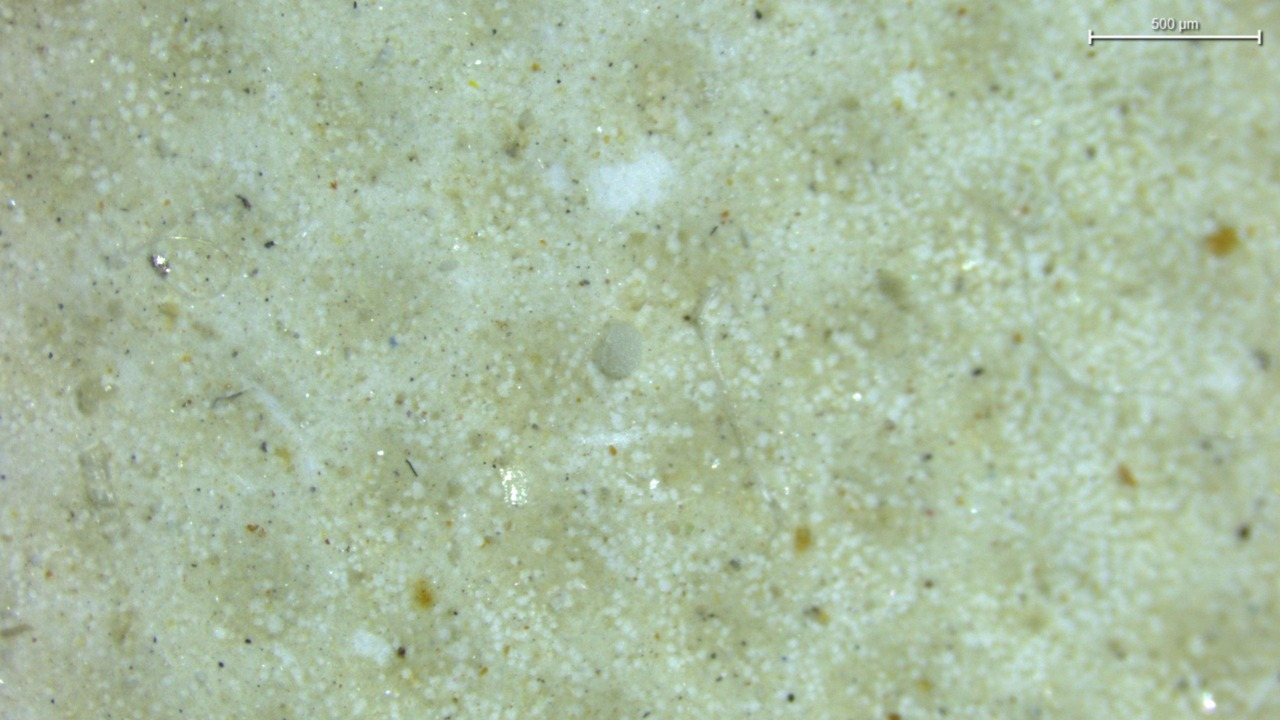microplastic_fragment: (592, 321, 642, 379)
